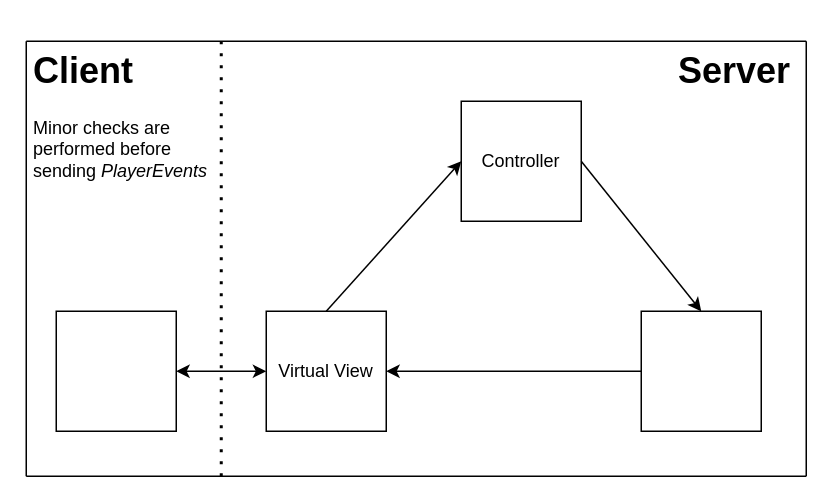
This 834x504 diagram has some shape labels left out. The centre of each missing label's shape, as x and y in pixels:
"Model" goes at point 700,370.
"View" goes at point 115,370.
